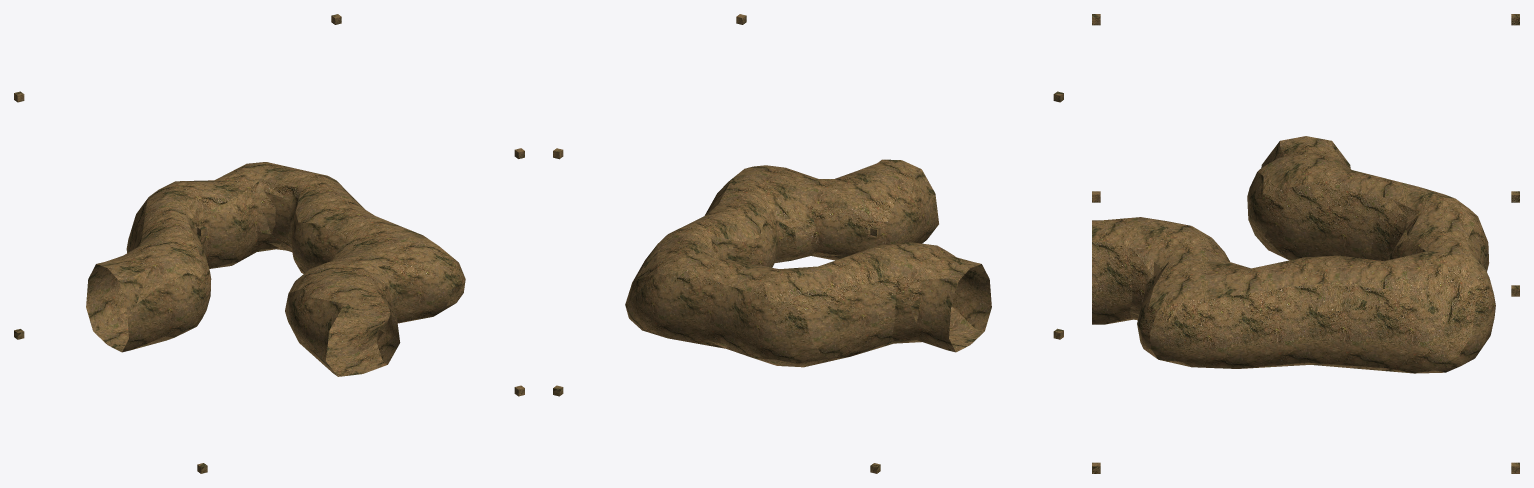
Rendered from lba_2d.glb.
The picture shows the model from 3 angles, left to right: view 1: azimuth 30°, elevation 25°; view 2: azimuth 150°, elevation 25°; view 3: azimuth 270°, elevation 25°; orthographic projection. The views are drawn at different scales.
Visible parts, largest first — view 1: lba_2d-col; view 2: lba_2d-col; view 3: lba_2d-col.
Part boxes in pixels (left/top/right/bottom): lba_2d-col: left=14, top=14, right=524, bottom=473; lba_2d-col: left=553, top=14, right=1063, bottom=473; lba_2d-col: left=1092, top=14, right=1519, bottom=473.
Size of the model in its own units: 15 by 10.8 by 15.
1 material, 1 textured.
